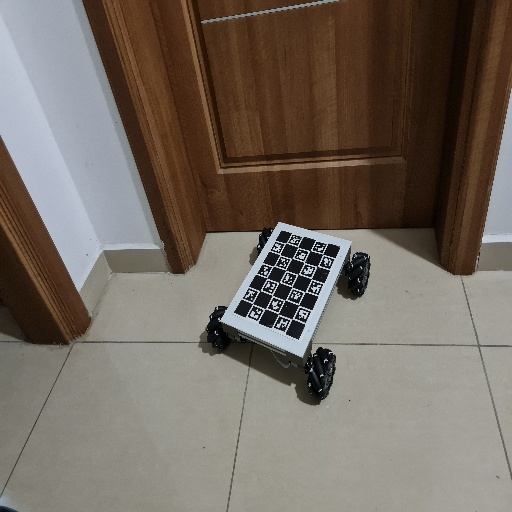Omniwheel: (204, 220, 373, 405)
